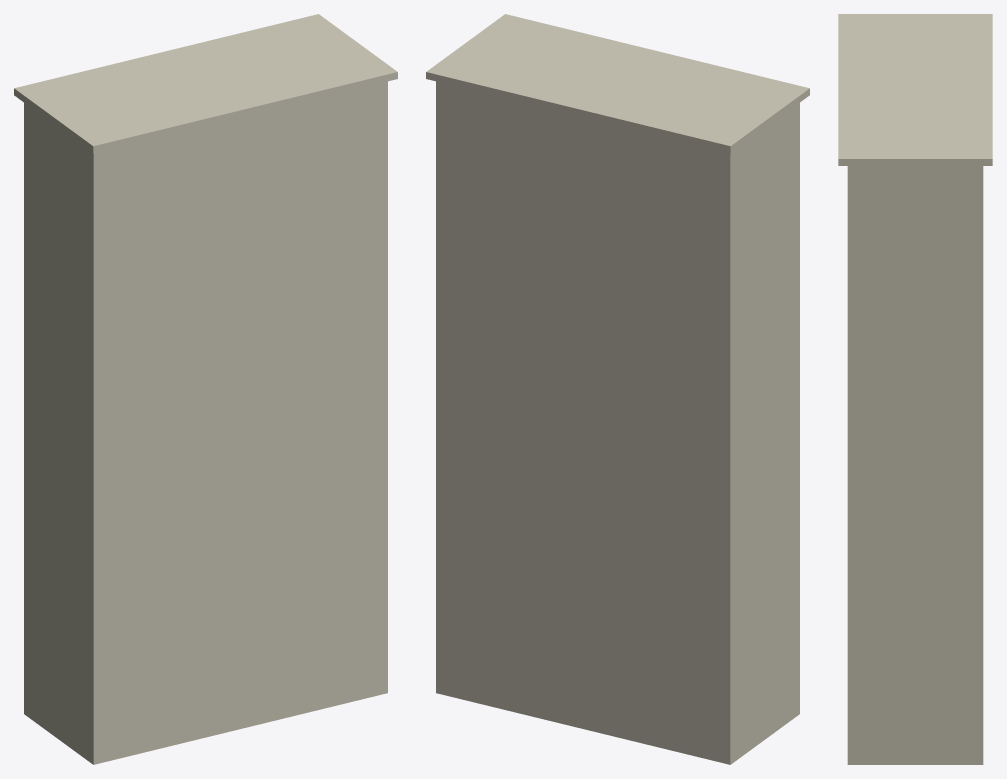
3 renders of one model, left to right at view 1: azimuth 30°, elevation 25°; view 2: azimuth 150°, elevation 25°; view 3: azimuth 270°, elevation 25°, orthographic. The views are drawn at different scales.
Size of the model in its own units: 9.1 by 17.8 by 4.1.
